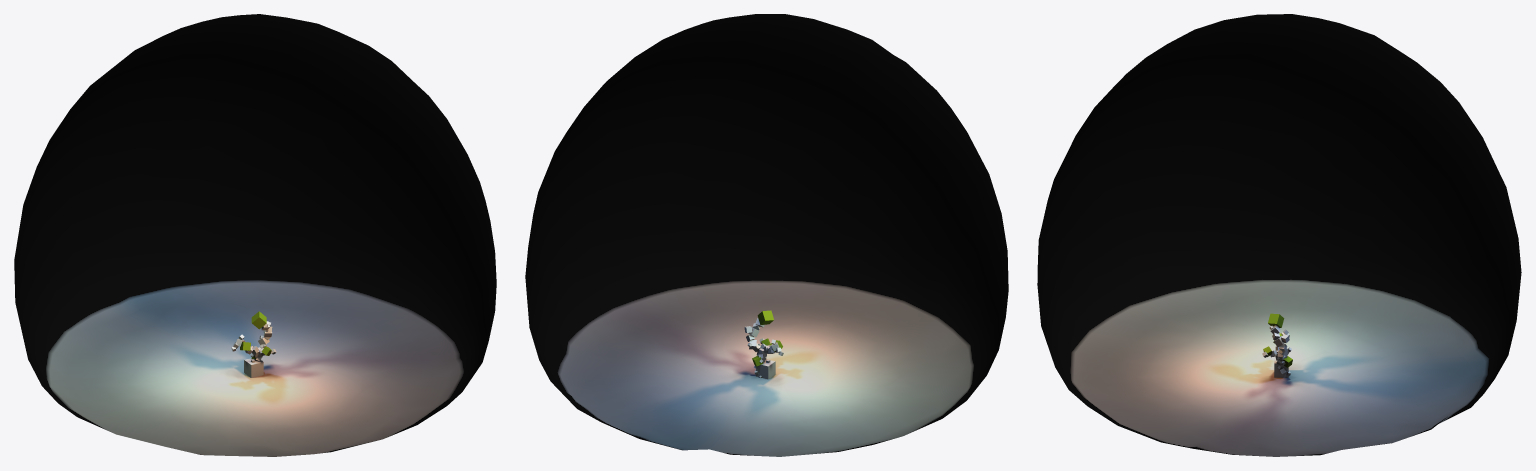
File: cubes.gltf
The picture shows the model from 3 angles, left to right: view 1: azimuth 30°, elevation 25°; view 2: azimuth 150°, elevation 25°; view 3: azimuth 270°, elevation 25°; orthographic projection.
Visible parts, largest first — view 1: wall; view 2: wall; view 3: wall.
Boxes of the visible parts, x1,y1,x2,y2 form: wall: (14, 14, 496, 456); wall: (525, 14, 1008, 456); wall: (1037, 14, 1521, 456).
Size of the model in its own units: 9.58 by 7.42 by 9.6.
Materials: 3 (3 with a texture image).
